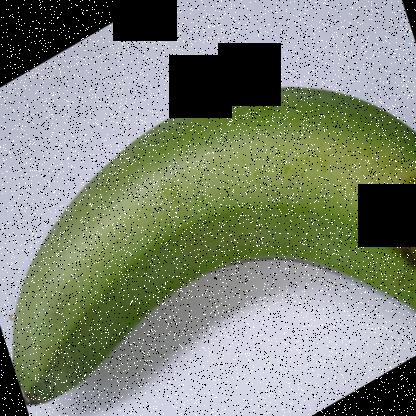freshunripe: (2, 66, 415, 415)
